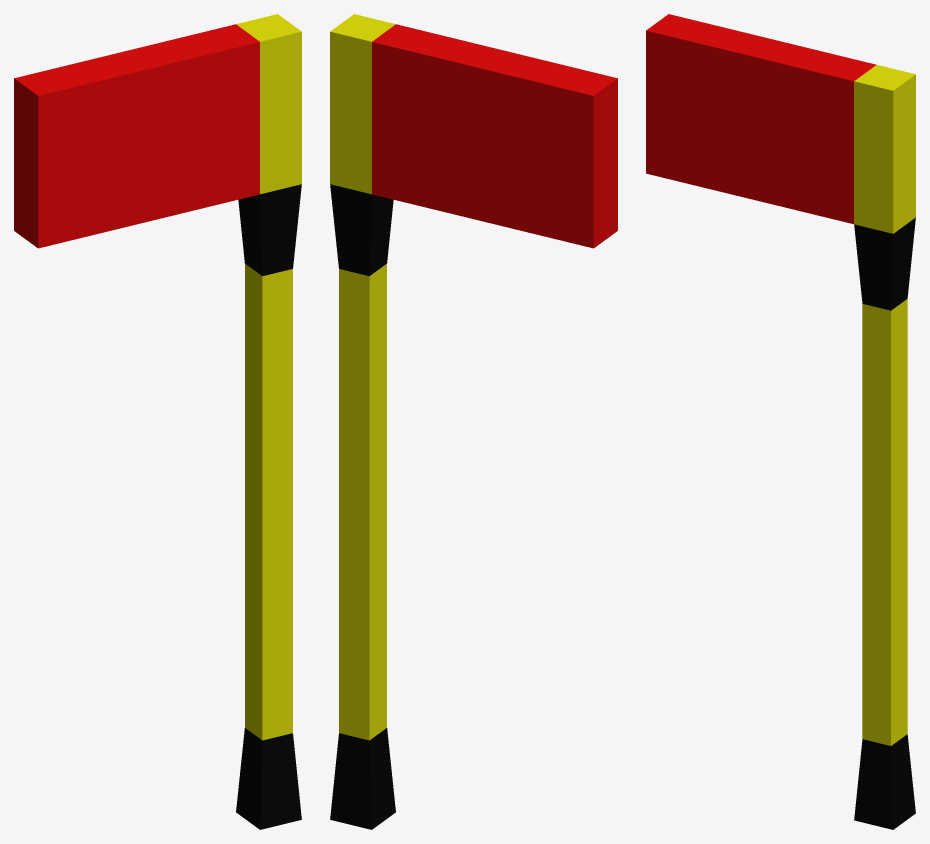
File: CheckpointflagRED.fbx
The picture shows the model from 3 angles, left to right: view 1: azimuth 30°, elevation 25°; view 2: azimuth 150°, elevation 25°; view 3: azimuth 330°, elevation 25°; orthographic projection. The views are drawn at different scales.
Parts seen in each view (by area): view 1: Checkpoint1; view 2: Checkpoint1; view 3: Checkpoint1.
Part boxes in pixels (x1,y1,x2,y2): Checkpoint1: (14,14,301,829); Checkpoint1: (330,14,617,829); Checkpoint1: (646,14,915,829).
Size of the model in its own units: 0.0196 by 0.0559 by 0.0031.
